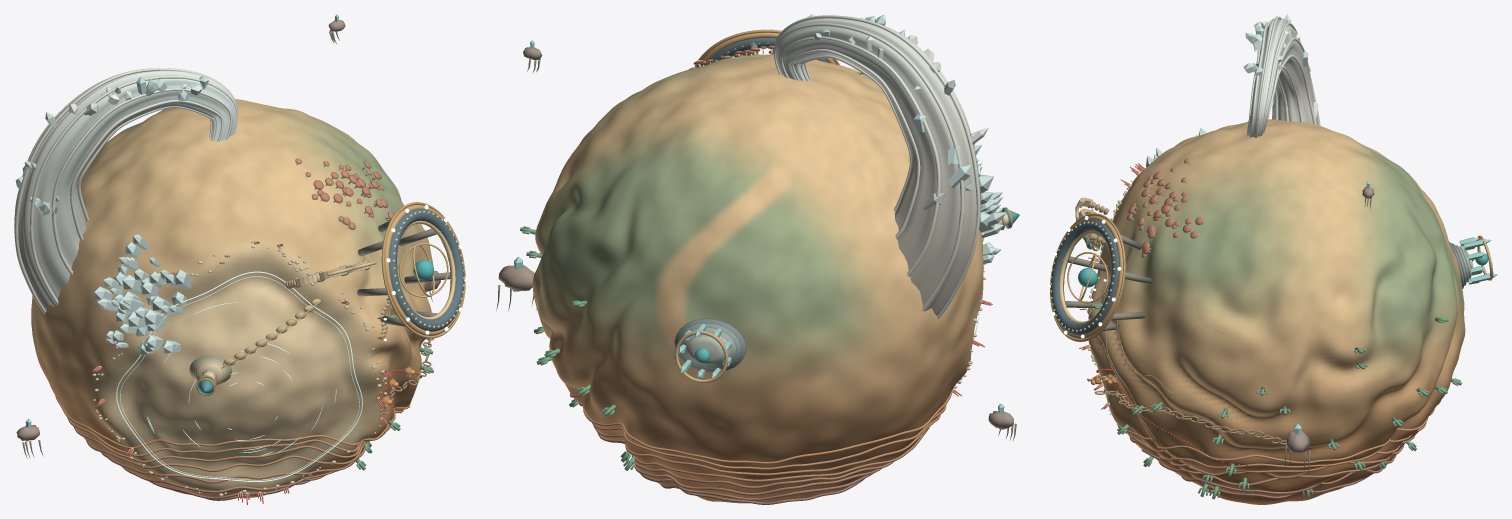
Rendered from world.glb.
3 renders of one model, left to right at view 1: azimuth 30°, elevation 25°; view 2: azimuth 150°, elevation 25°; view 3: azimuth 270°, elevation 25°, orthographic. The views are drawn at different scales.
Parts seen in each view (by area): view 1: World_sand, World_ivory, World_stone, World_crystal, World_metal, World_dark_metal, World_coral, World_foam; view 2: World_sand, World_ivory, World_stone, World_crystal, World_metal, World_leaf, World_dark_metal; view 3: World_sand, World_ivory, World_stone, World_metal, World_dark_metal, World_coral, World_leaf, World_crystal.
Part boxes in pixels (left/top/right/bottom): World_sand: left=31, top=99, right=433, bottom=498; World_ivory: left=14, top=68, right=390, bottom=380; World_stone: left=16, top=20, right=440, bottom=500; World_crystal: left=15, top=14, right=338, bottom=427; World_metal: left=196, top=202, right=465, bottom=414; World_dark_metal: left=357, top=208, right=464, bottom=331; World_coral: left=92, top=158, right=421, bottom=504; World_foam: left=116, top=271, right=362, bottom=481; World_sand: left=532, top=54, right=983, bottom=503; World_ivory: left=698, top=15, right=1008, bottom=319; World_stone: left=498, top=47, right=1013, bottom=504; World_crystal: left=514, top=14, right=1006, bottom=413; World_metal: left=674, top=29, right=1019, bottom=383; World_leaf: left=520, top=226, right=635, bottom=470; World_dark_metal: left=705, top=38, right=827, bottom=65; World_sand: left=1088, top=119, right=1465, bottom=504; World_ivory: left=1089, top=16, right=1320, bottom=256; World_stone: left=1075, top=168, right=1473, bottom=498; World_metal: left=1050, top=213, right=1493, bottom=444; World_dark_metal: left=1051, top=219, right=1152, bottom=335; World_coral: left=1079, top=158, right=1247, bottom=465; World_leaf: left=1091, top=304, right=1461, bottom=499; World_crystal: left=1146, top=14, right=1497, bottom=434.
Bounding box in the file's own units: 10.18 × 9.62 × 9.55.
